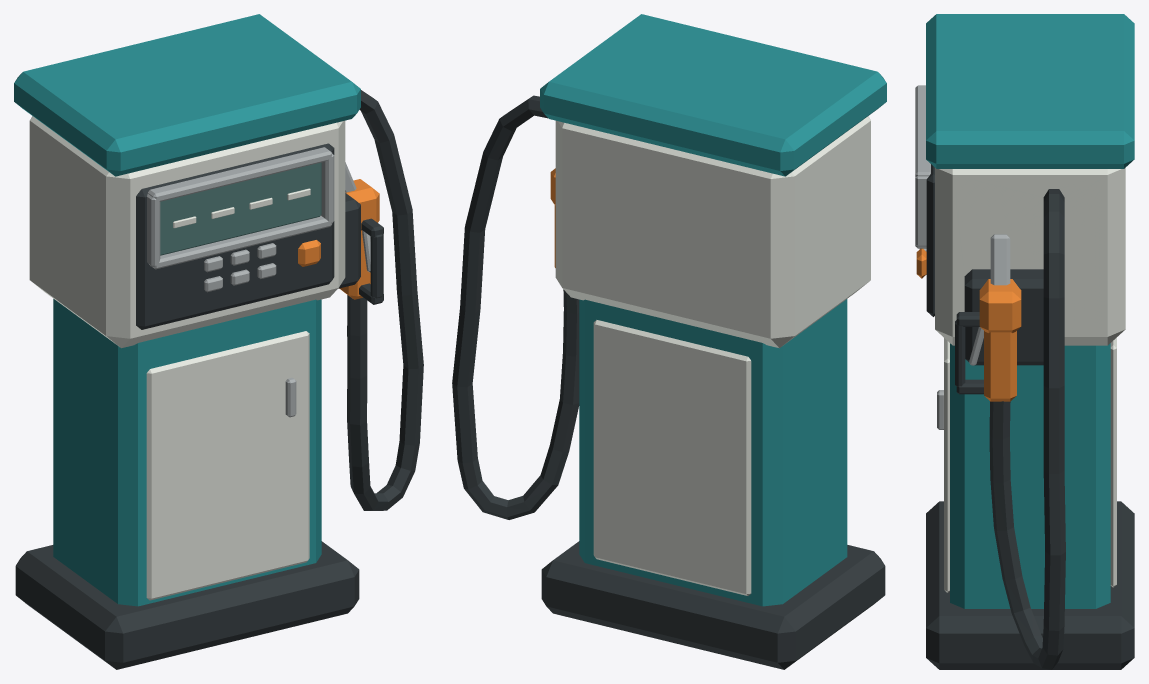
Rendered from NEW_RECOVERY_110_LOD2.glb.
3 renders of one model, left to right at view 1: azimuth 30°, elevation 25°; view 2: azimuth 150°, elevation 25°; view 3: azimuth 270°, elevation 25°, orthographic.
Visible parts, largest first — view 1: Fuel_dispenser; view 2: Fuel_dispenser; view 3: Fuel_dispenser.
Part boxes in pixels (x1,y1,x2,y2): Fuel_dispenser: (14, 14, 423, 669); Fuel_dispenser: (452, 14, 886, 669); Fuel_dispenser: (915, 14, 1134, 669).
Size of the model in its own units: 1.47 by 2 by 0.7355.
